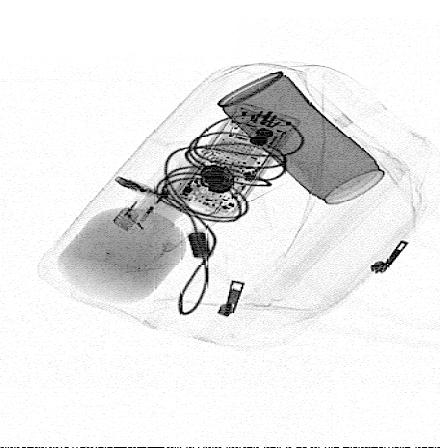Lighter: (113, 167, 184, 234)
